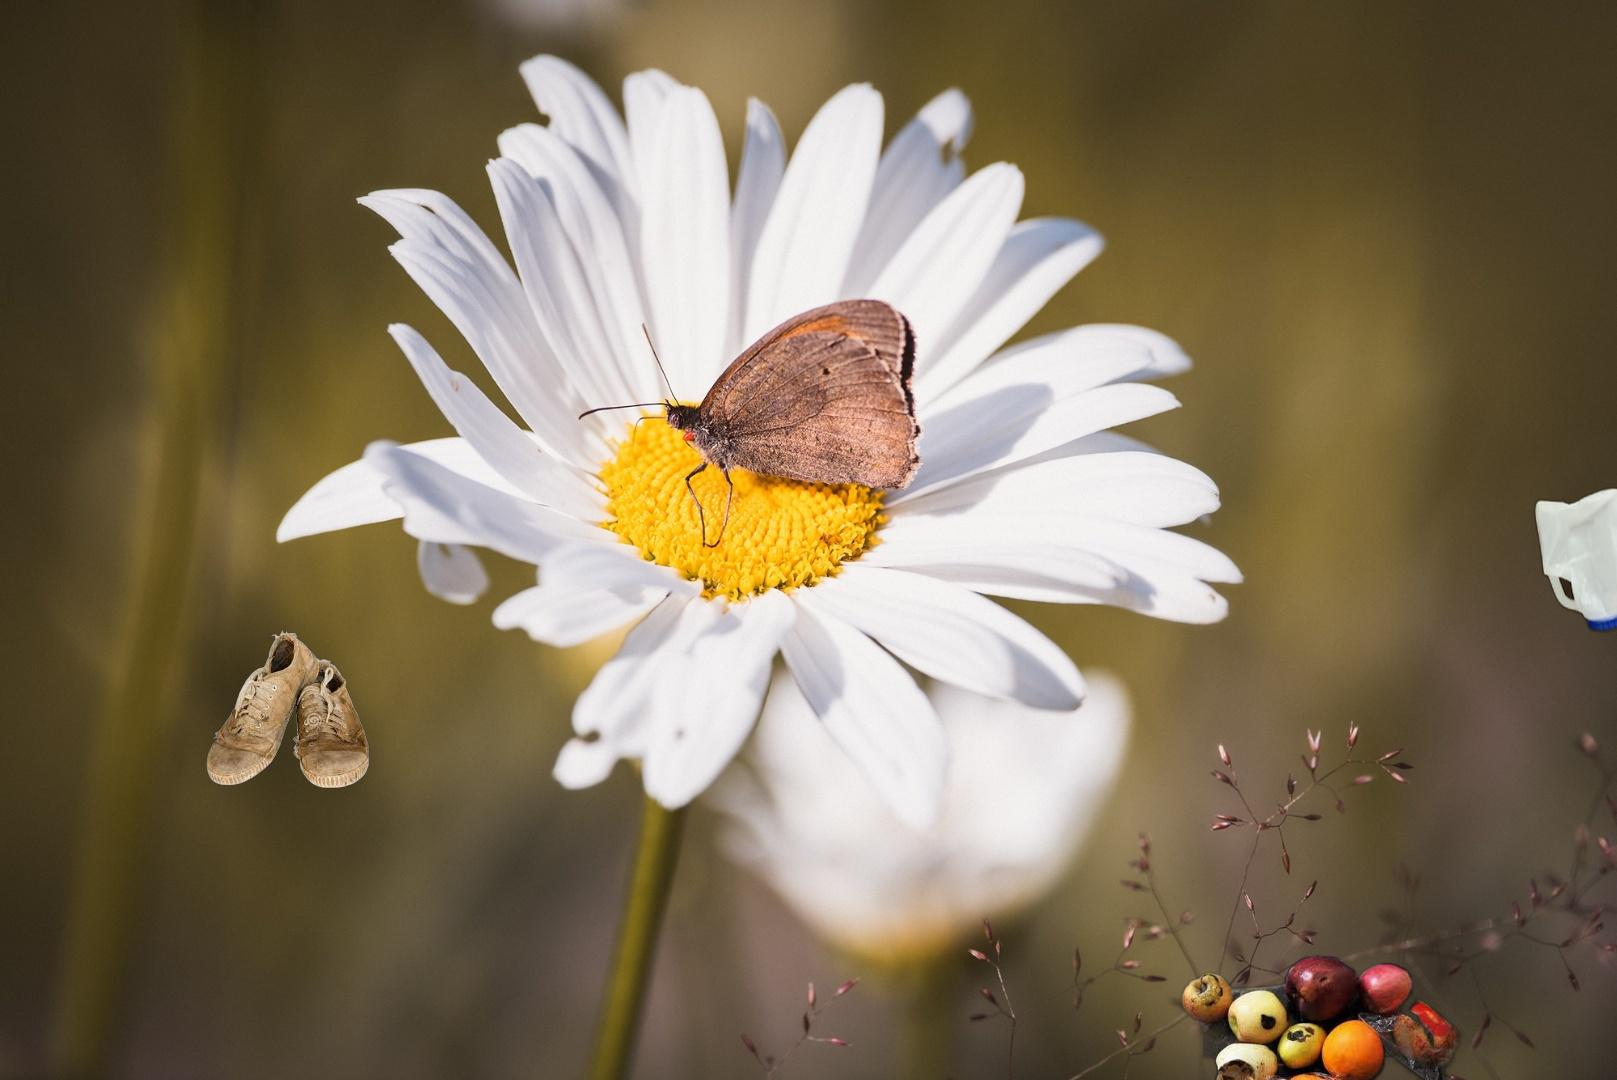biological: (1178, 953, 1472, 1080)
plastic-bottles: (1531, 481, 1617, 638)
shoes: (202, 626, 372, 791)
